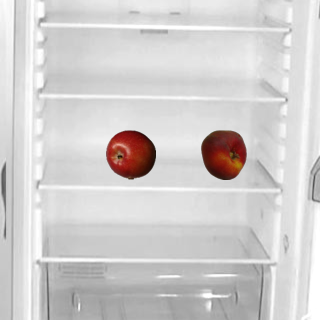Apple Braeburn: (105, 129, 155, 179)
Nectarine Flat: (198, 129, 248, 179)
